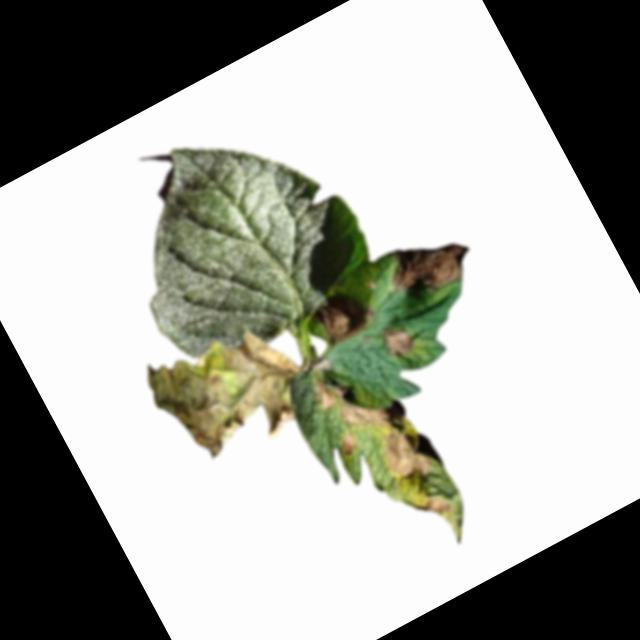Late_blight: (136, 302, 325, 484), (374, 217, 481, 312), (303, 279, 380, 351), (373, 421, 438, 489), (336, 388, 392, 441), (305, 363, 355, 416), (375, 316, 418, 363), (413, 486, 453, 523), (333, 431, 360, 459)
healthy: (84, 84, 391, 387)
